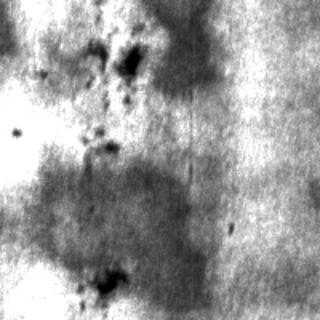inclusion: (90, 35, 146, 83), (78, 262, 130, 306)
patches: (21, 160, 209, 308), (141, 0, 217, 92)
